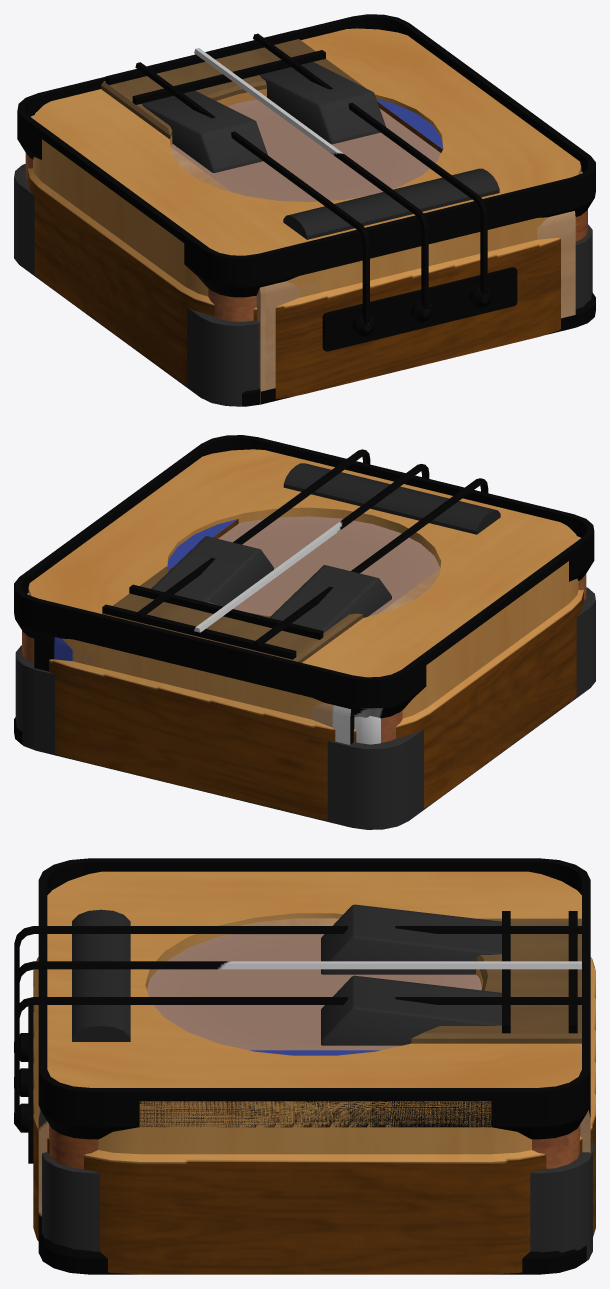
Rendered from music instruments.FBX.
3 renders of one model, top to bottom at view 1: azimuth 30°, elevation 25°; view 2: azimuth 150°, elevation 25°; view 3: azimuth 270°, elevation 25°, orthographic. The views are drawn at different scales.
Parts seen in each view (by area): view 1: Guitar, Drump, Piano, Xylophone; view 2: Guitar, Drump, Piano, Xylophone; view 3: Guitar, Drump, Piano, Xylophone.
Part boxes in pixels (bbox=[...]): Guitar: bbox=[27, 28, 581, 398]; Drump: bbox=[17, 14, 595, 406]; Piano: bbox=[14, 62, 592, 406]; Xylophone: bbox=[170, 99, 575, 403]; Guitar: bbox=[28, 449, 583, 819]; Drump: bbox=[14, 435, 594, 744]; Piano: bbox=[15, 536, 595, 829]; Xylophone: bbox=[34, 519, 440, 744]; Guitar: bbox=[14, 871, 595, 1274]; Drump: bbox=[38, 858, 590, 1274]; Piano: bbox=[42, 904, 592, 1260]; Xylophone: bbox=[38, 918, 590, 1236].
Bounding box in the file's own units: 0.1162 × 0.0454 × 0.1202.
